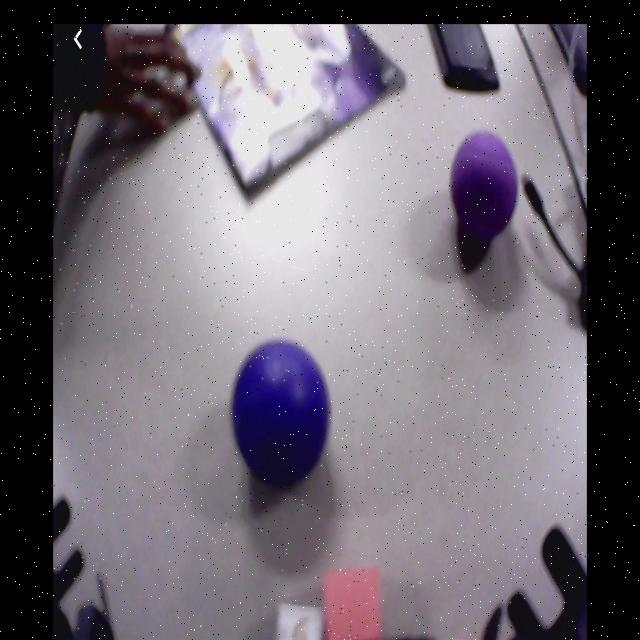ball: (233, 340, 330, 480), (448, 133, 520, 234)
